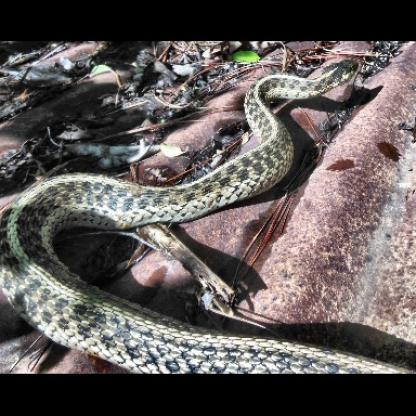Snake: (3, 54, 359, 367)
